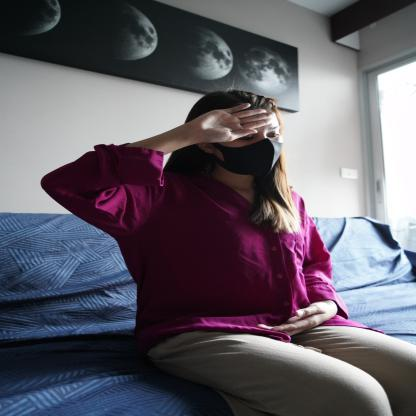Sick: (149, 97, 285, 152)
